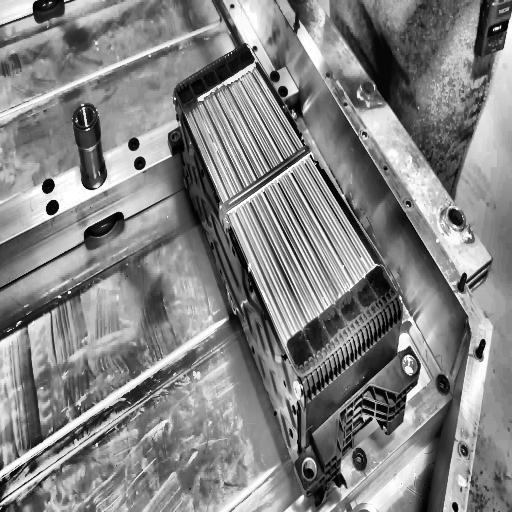battery_module: (173, 44, 406, 395)
